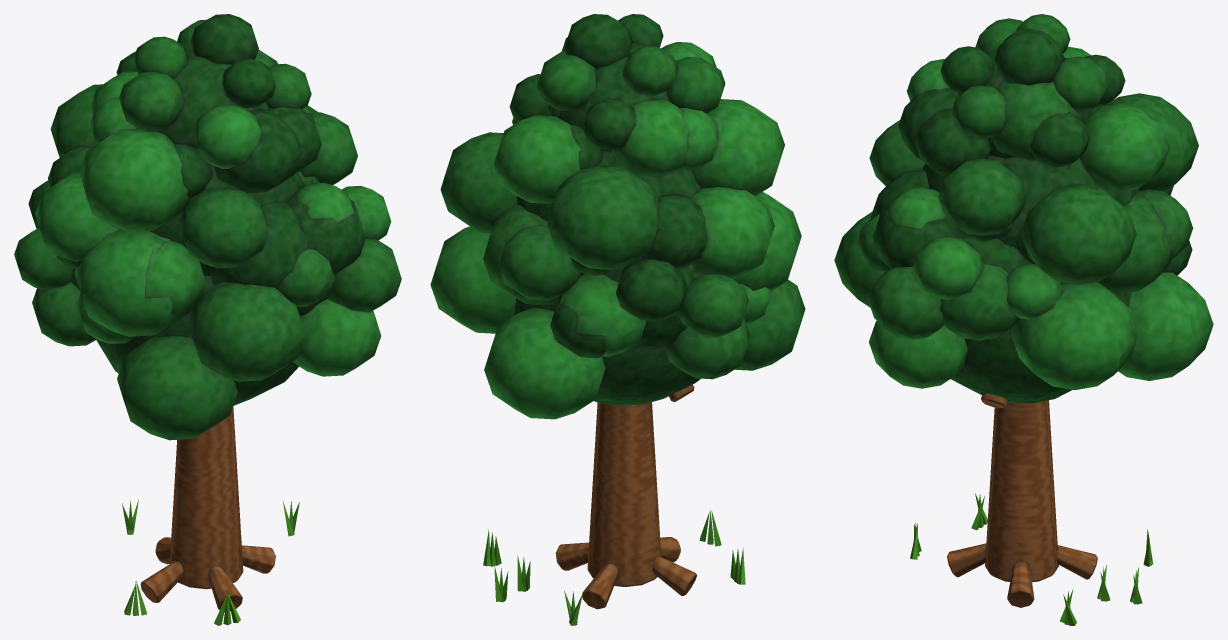
File: avocado_tree.glb
The picture shows the model from 3 angles, left to right: view 1: azimuth 30°, elevation 25°; view 2: azimuth 150°, elevation 25°; view 3: azimuth 270°, elevation 25°; orthographic projection.
Visible parts, largest first — view 1: crown, avocado_tree; view 2: crown, avocado_tree; view 3: crown, avocado_tree.
Part boxes in pixels (x1,y1,x2,y2): crown: (14,14,401,440); avocado_tree: (122,406,299,625); crown: (430,14,805,419); avocado_tree: (483,384,745,625); crown: (834,14,1213,403); avocado_tree: (910,393,1153,625).
Bounding box in the file's own units: 0.8784 × 1.49 × 0.9188.
1 material, 1 textured.
